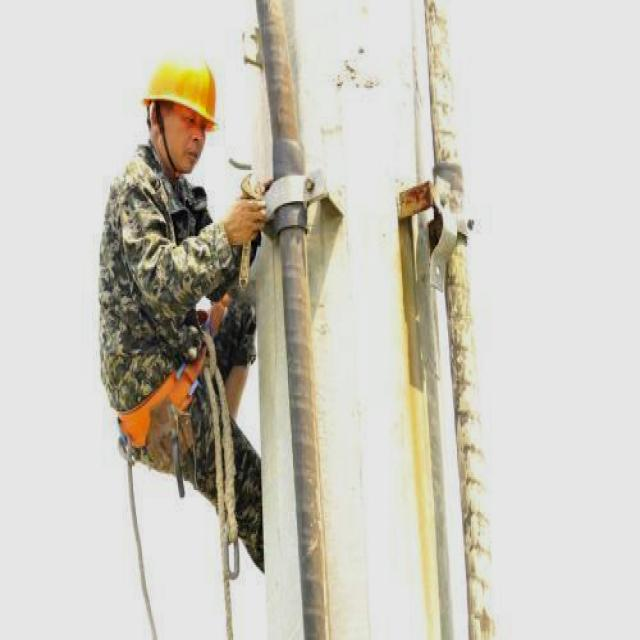face_nomask: (163, 106, 215, 185)
hand_noglove: (219, 196, 269, 248)
head_helmet: (152, 55, 214, 108)
person: (132, 59, 260, 538)
